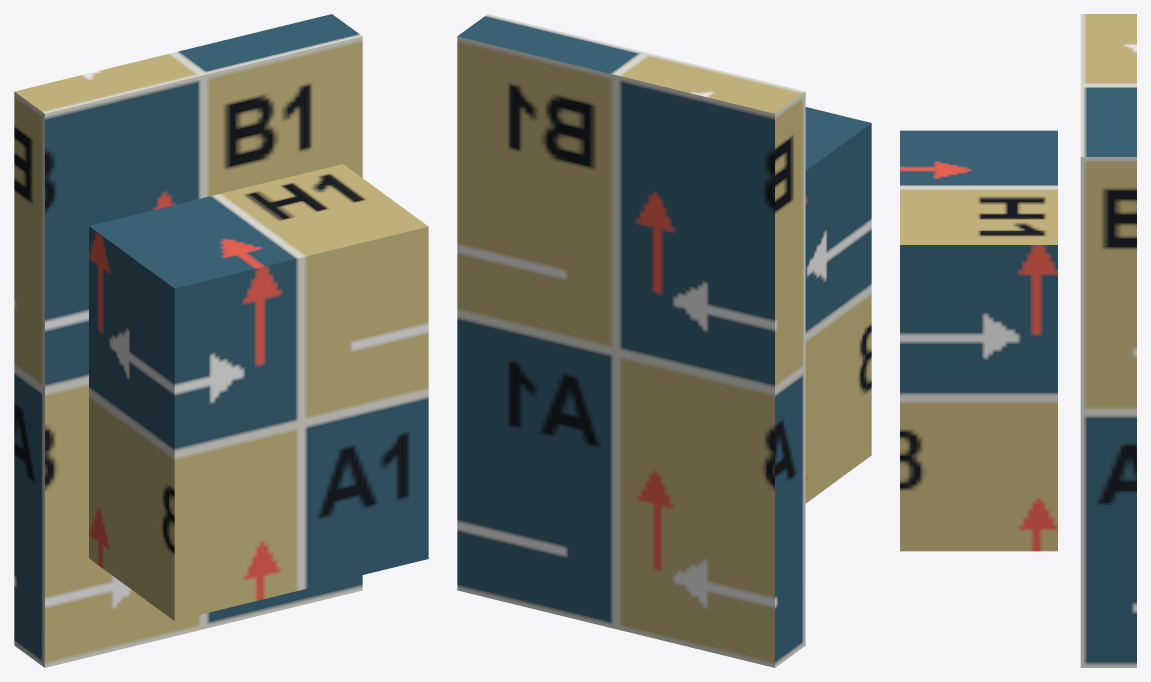
Rendered from LIGHT_WallSconce.fbx.
3 renders of one model, left to right at view 1: azimuth 30°, elevation 25°; view 2: azimuth 150°, elevation 25°; view 3: azimuth 270°, elevation 25°, orthographic. The views are drawn at different scales.
Parts seen in each view (by area): view 1: LIGHT_WallSconce; view 2: LIGHT_WallSconce; view 3: LIGHT_WallSconce.
Part boxes in pixels (x1,y1,x2,y2): LIGHT_WallSconce: [14, 14, 428, 667]; LIGHT_WallSconce: [457, 14, 871, 667]; LIGHT_WallSconce: [900, 14, 1136, 667].
Size of the model in its own units: 30 by 50 by 21.
Materials: 2 (2 with a texture image).
